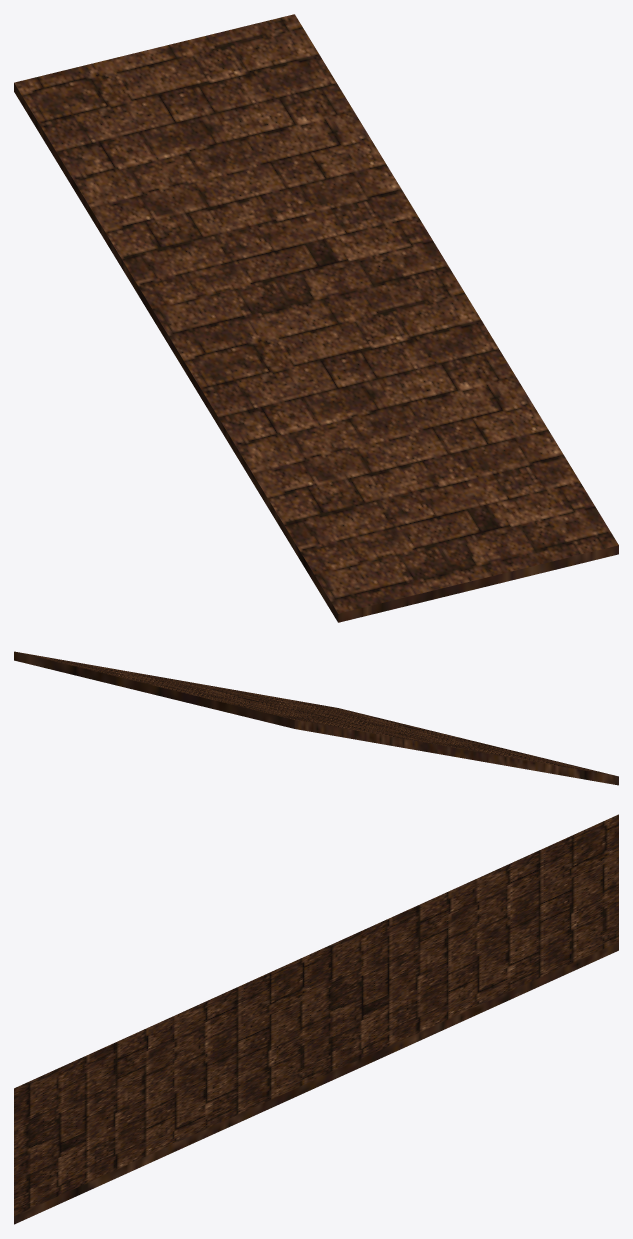
The model's file is Slope.fbx.
3 views of the same model, one above another, from view 1: azimuth 30°, elevation 25°; view 2: azimuth 150°, elevation 25°; view 3: azimuth 270°, elevation 25° (orthographic). The views are drawn at different scales.
Parts seen in each view (by area): view 1: Plane.008; view 2: Plane.008; view 3: Plane.008.
Boxes of the visible parts, x1=… form: Plane.008: x1=14, y1=14, x2=618, y2=622; Plane.008: x1=14, y1=651, x2=618, y2=785; Plane.008: x1=14, y1=814, x2=618, y2=1224.
Size of the model in its own units: 200 by 206 by 400.
Materials: 1 (1 with a texture image).
